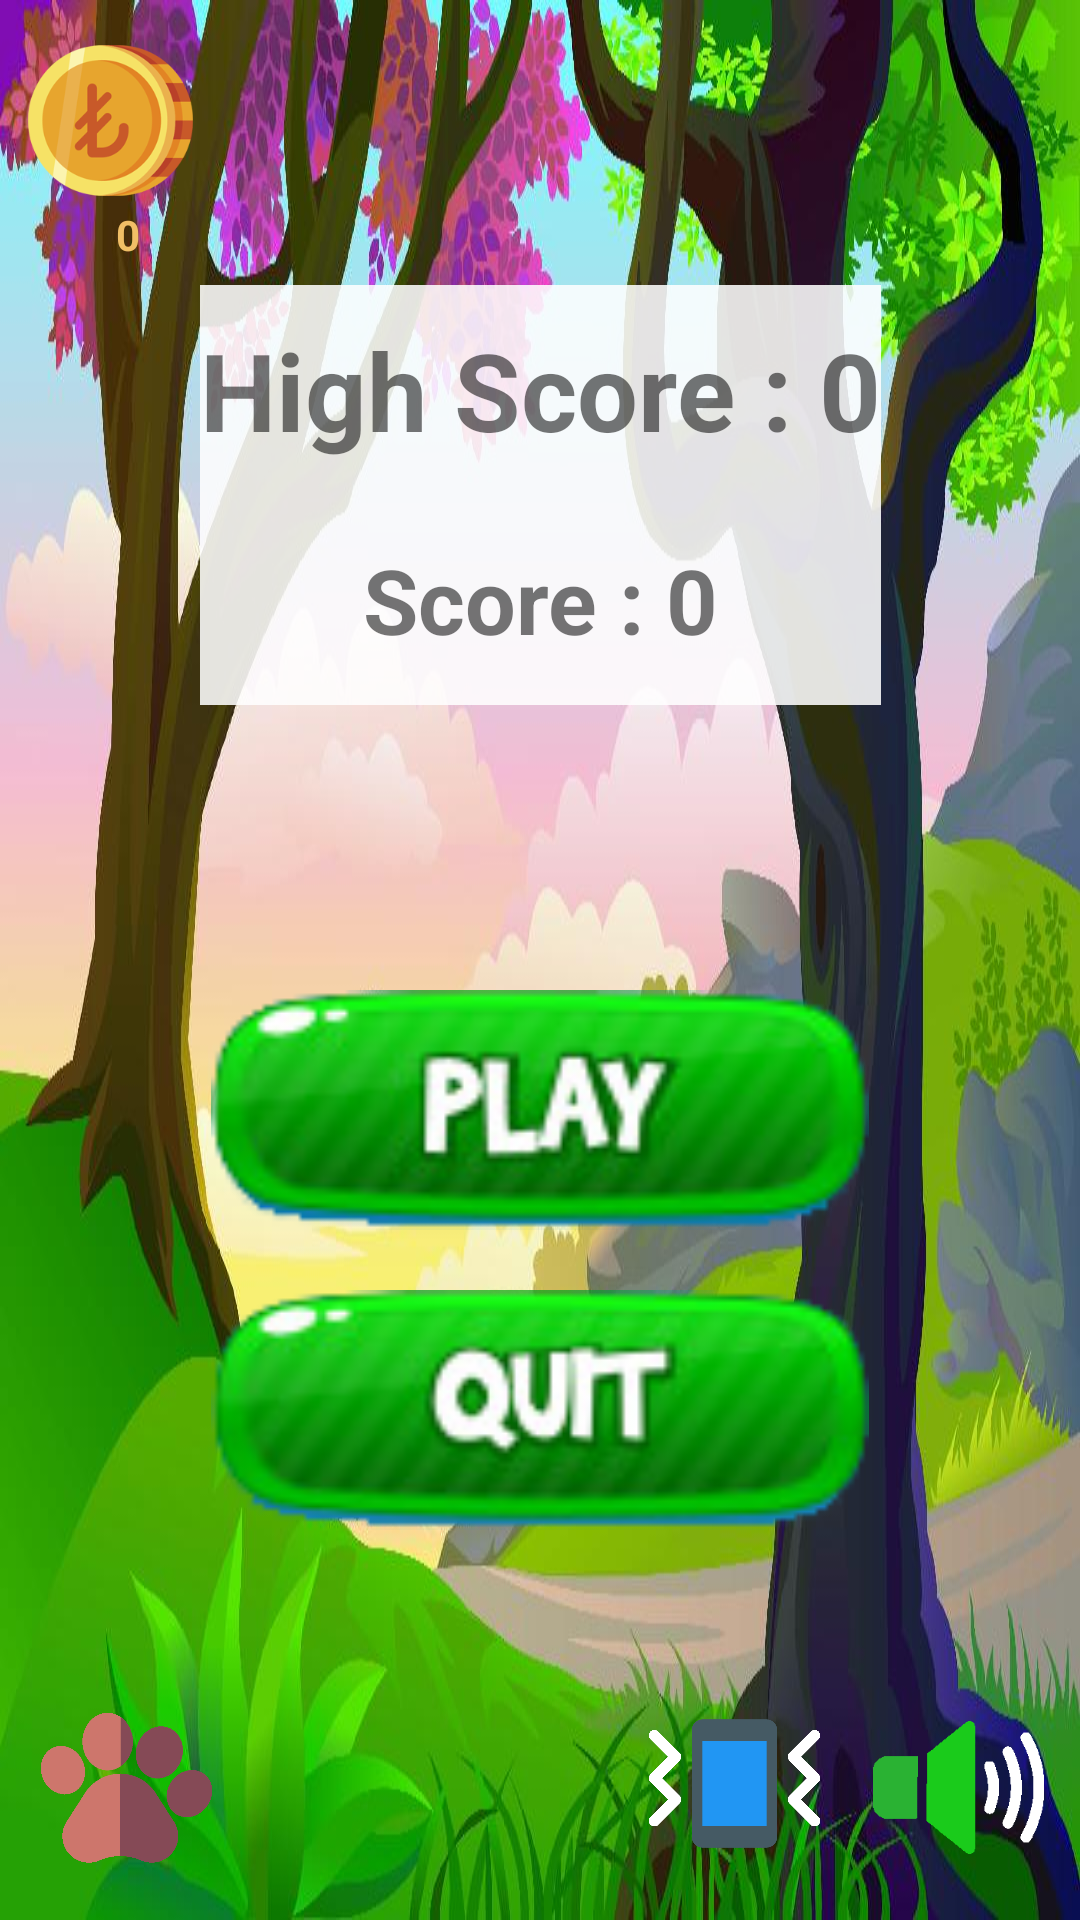

Where to tap for icons on this 1080px x 1920px app screen, as point (x, y):
animal: point (126, 1787)
liracoin: point (110, 120)
soundsicon: point (958, 1787)
vibrationon: point (734, 1783)
